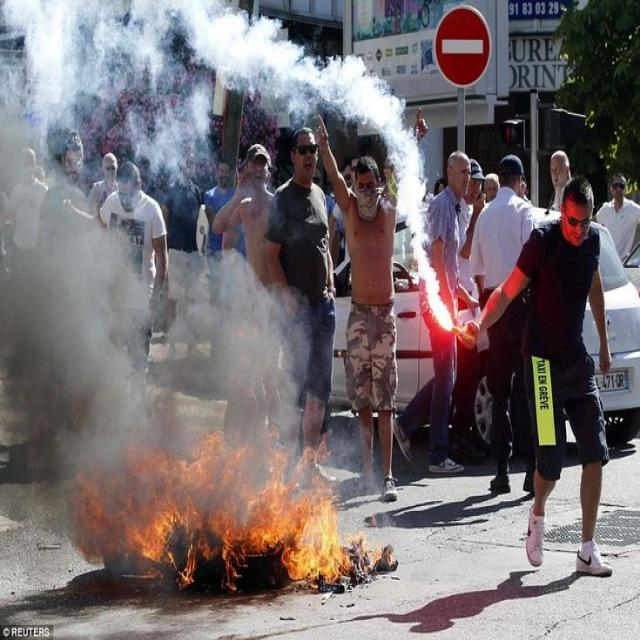fire: (74, 431, 350, 593)
